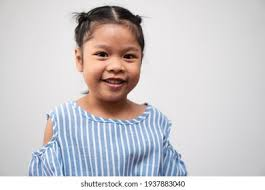person: (73, 4, 147, 104)
